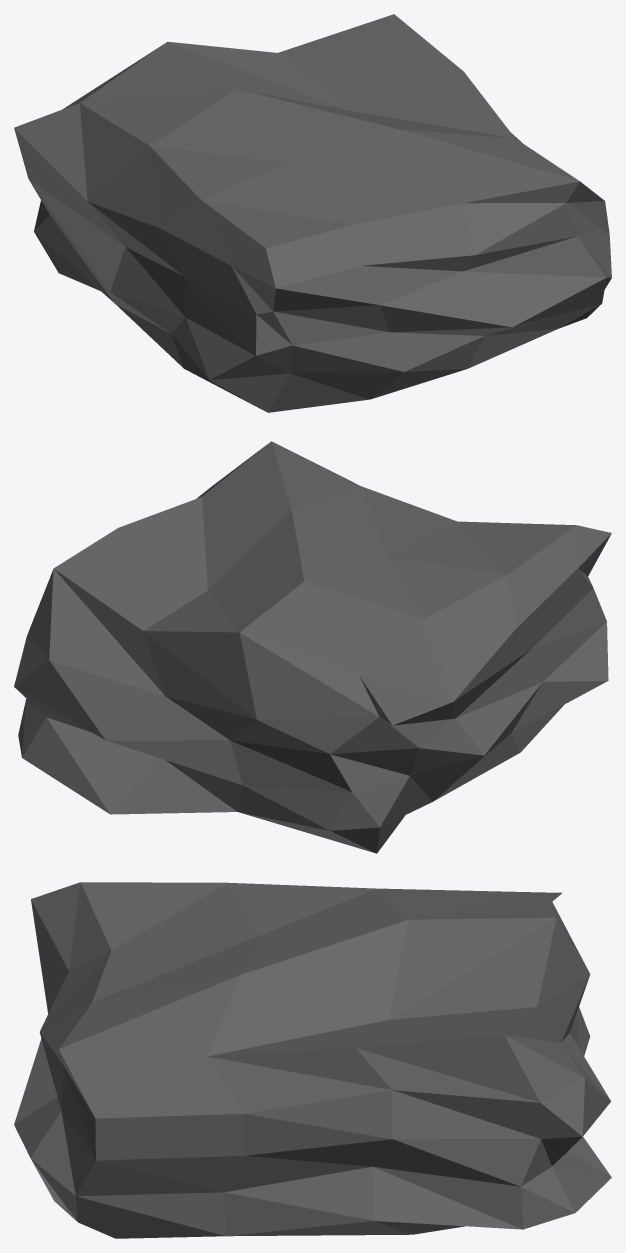
The model's file is Dest_Desert_Stone2.FBX.
3 views of the same model, one above another, from view 1: azimuth 30°, elevation 25°; view 2: azimuth 150°, elevation 25°; view 3: azimuth 270°, elevation 25° (orthographic). The views are drawn at different scales.
Visible parts, largest first — view 1: ChamferBox001; view 2: ChamferBox001; view 3: ChamferBox001.
Part boxes in pixels (x1,y1,x2,y2): ChamferBox001: [14, 14, 611, 412]; ChamferBox001: [14, 441, 611, 853]; ChamferBox001: [14, 882, 611, 1238].
Size of the model in its own units: 30.58 by 15.02 by 35.15.
